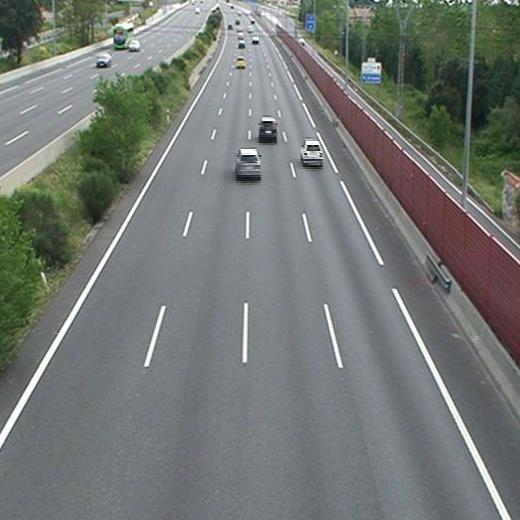car: (236, 149, 261, 175), (300, 140, 324, 165), (258, 118, 276, 137), (236, 56, 247, 69), (237, 41, 246, 48)
